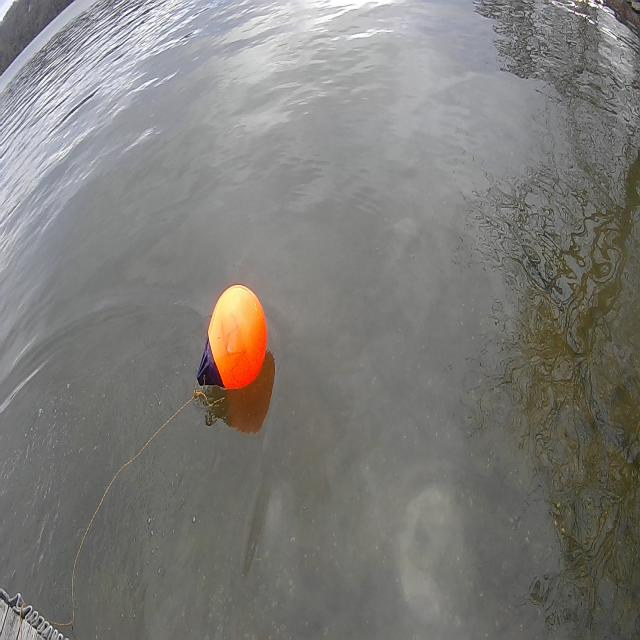Buoy: (208, 282, 268, 391)
